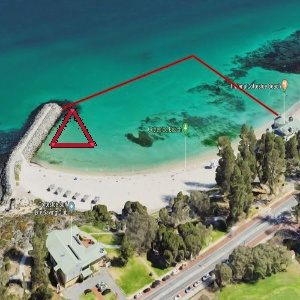triangle: (46, 106, 98, 151)
